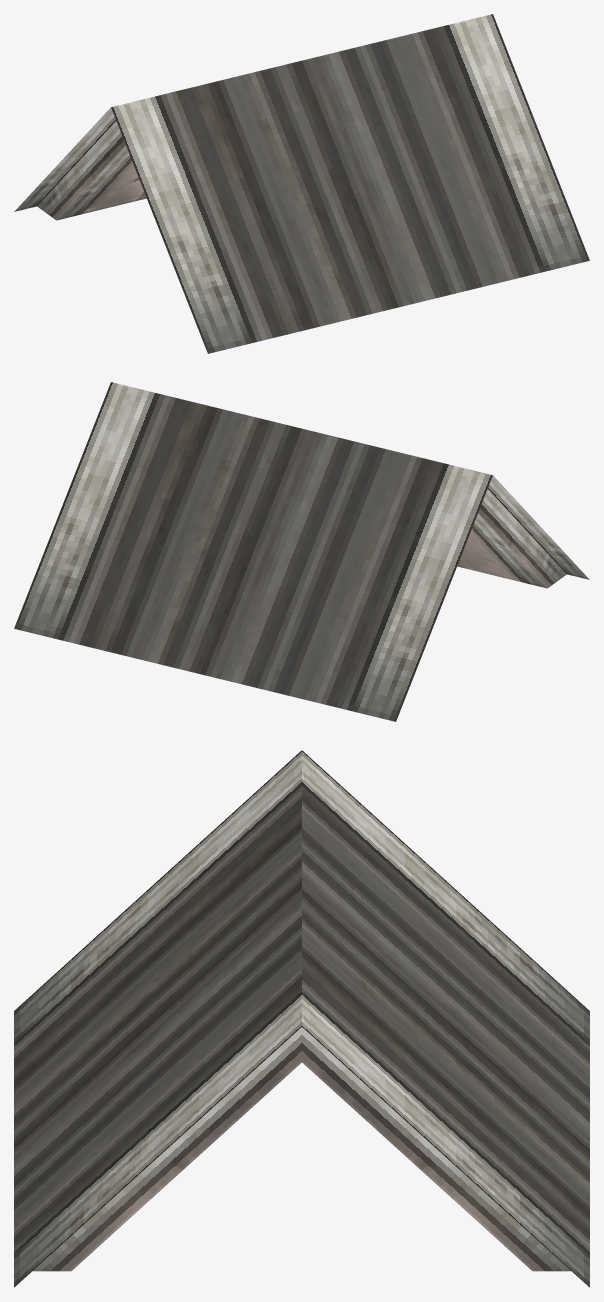
Rendered from roof-metal-type-b.glb.
3 renders of one model, top to bottom at view 1: azimuth 30°, elevation 25°; view 2: azimuth 150°, elevation 25°; view 3: azimuth 270°, elevation 25°, orthographic. The views are drawn at different scales.
Visible parts, largest first — view 1: roof-metal-type-b; view 2: roof-metal-type-b; view 3: roof-metal-type-b.
Boxes of the visible parts, box(x1,y1,x2,y2) form: roof-metal-type-b: box(14, 14, 589, 353); roof-metal-type-b: box(14, 382, 589, 721); roof-metal-type-b: box(14, 750, 589, 1287).
Bounding box in the file's own units: 1.14 × 0.5 × 1.
Materials: 3 (3 with a texture image).
